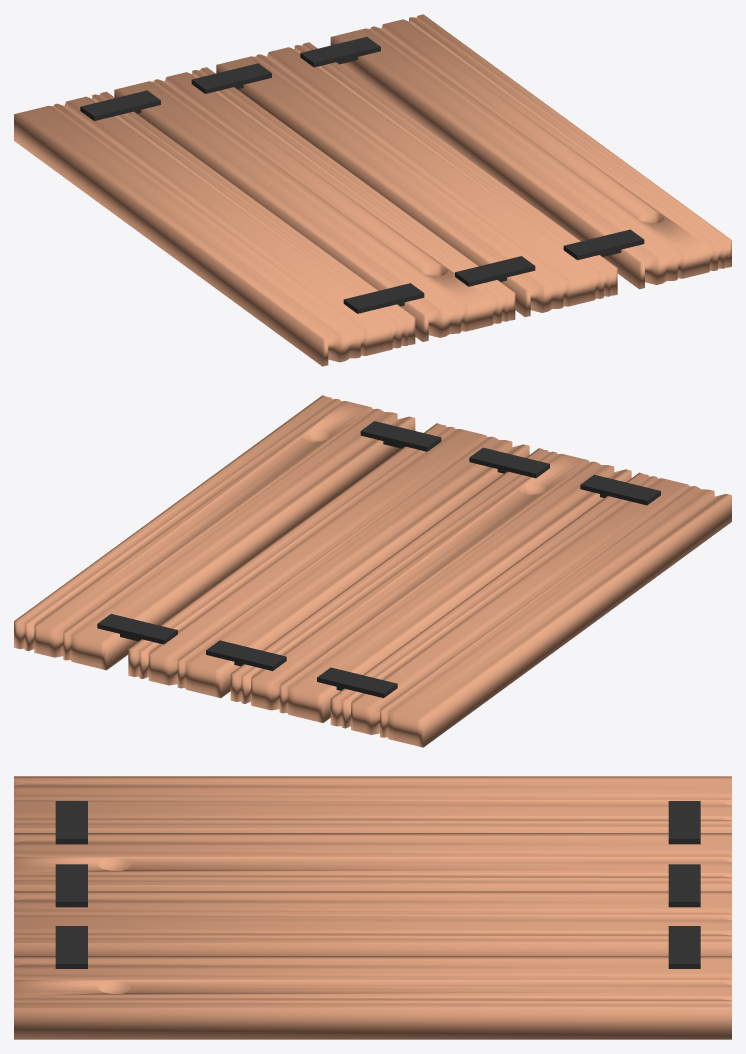
The model's file is PlankShort.fbx.
The picture shows the model from 3 angles, top to bottom: view 1: azimuth 30°, elevation 25°; view 2: azimuth 150°, elevation 25°; view 3: azimuth 270°, elevation 25°; orthographic projection. The views are drawn at different scales.
Visible parts, largest first — view 1: PlankShort; view 2: PlankShort; view 3: PlankShort.
Part boxes in pixels (x1,y1,x2,y2): PlankShort: (14, 14, 731, 366); PlankShort: (14, 395, 731, 747); PlankShort: (14, 776, 731, 1039).
Size of the model in its own units: 304 by 22.03 by 396.
